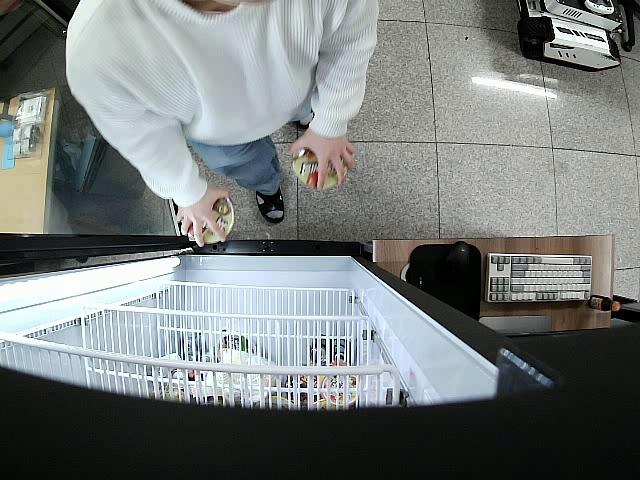00_hand: (291, 131, 354, 191), (179, 189, 226, 246)
03_chapagetti_L: (291, 145, 347, 192), (186, 193, 236, 241)
